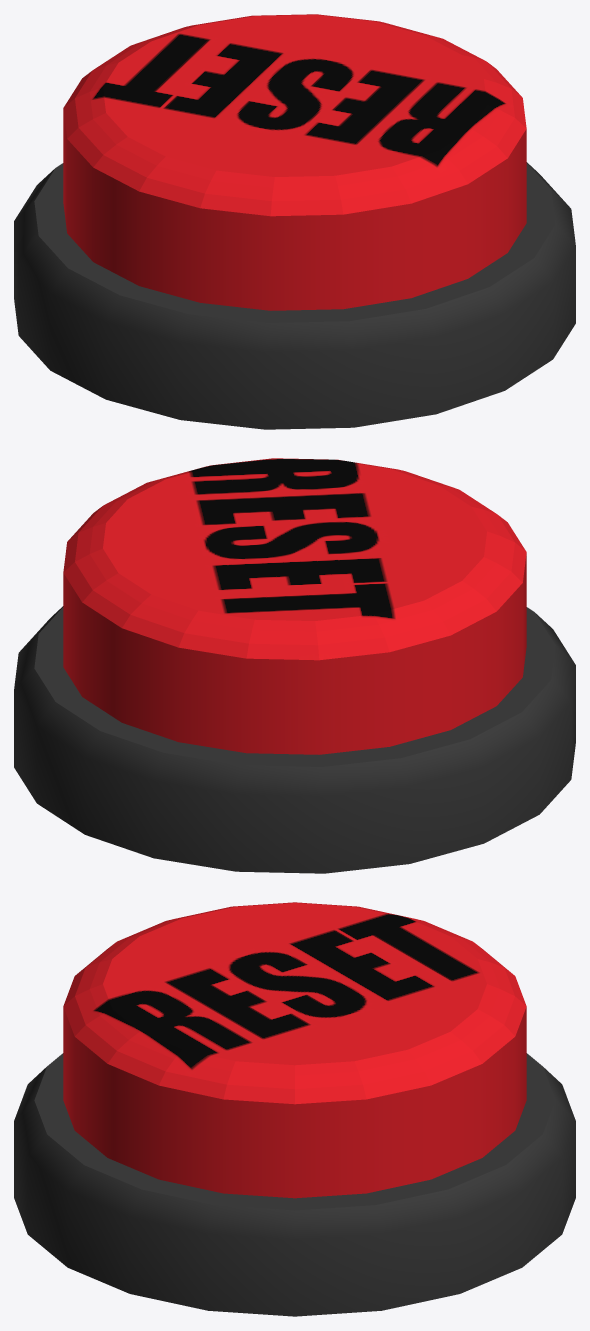
The model's file is button.glb.
The picture shows the model from 3 angles, top to bottom: view 1: azimuth 30°, elevation 25°; view 2: azimuth 150°, elevation 25°; view 3: azimuth 270°, elevation 25°; orthographic projection.
Visible parts, largest first — view 1: pCylinder1; view 2: pCylinder1; view 3: pCylinder1.
Part boxes in pixels (<box>): pCylinder1: <box>14,14,575,429</box>; pCylinder1: <box>14,458,575,873</box>; pCylinder1: <box>14,902,575,1316</box>.
Bounding box in the file's own units: 0.0988 × 0.0415 × 0.0988.
Materials: 1 (1 with a texture image).
